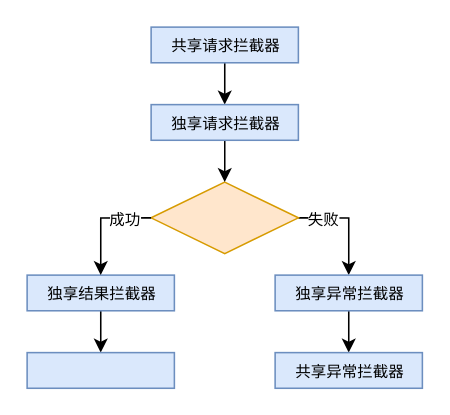
The diagram is 450 pixels wide and 415 high, and some of its shapes have lost their labels. The centre of each missing label's shape, as x and y in pixels:
"共享结果拦截器" belongs at (100,369).
"请求调用" belongs at (224,217).
